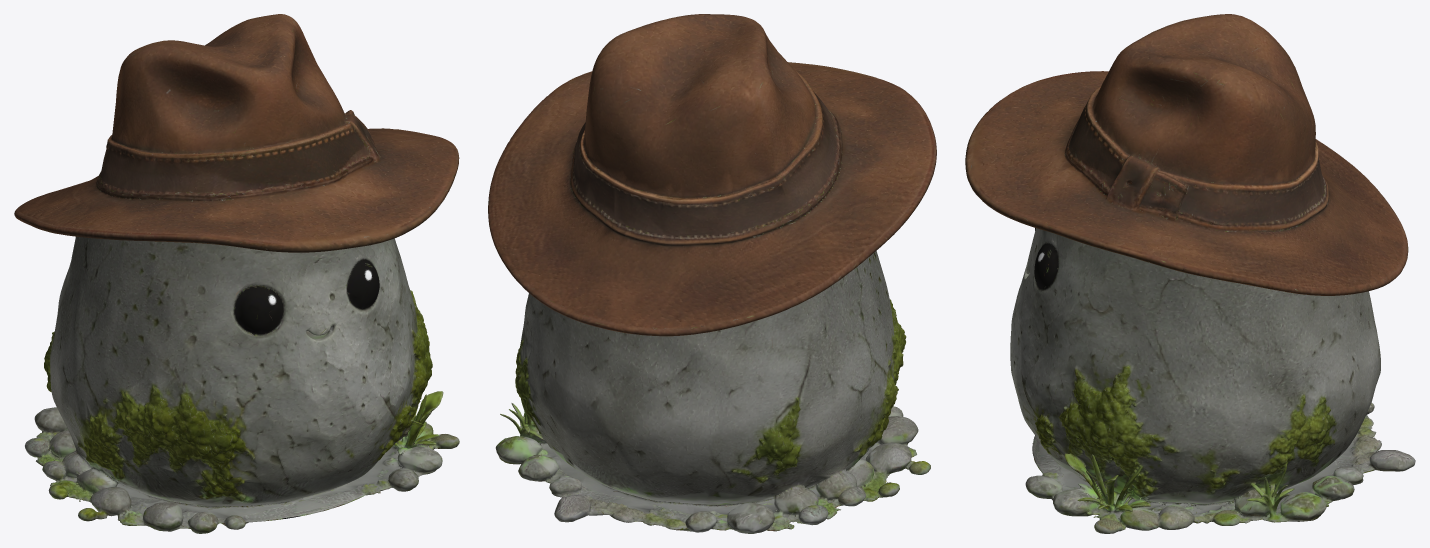
File: pedri.glb
The picture shows the model from 3 angles, left to right: view 1: azimuth 30°, elevation 25°; view 2: azimuth 150°, elevation 25°; view 3: azimuth 270°, elevation 25°; orthographic projection. The views are drawn at different scales.
Parts seen in each view (by area): view 1: Mesh1.0; view 2: Mesh1.0; view 3: Mesh1.0.
Boxes of the visible parts, left/top/right/bottom form: Mesh1.0: left=14, top=14, right=459, bottom=533; Mesh1.0: left=488, top=14, right=936, bottom=533; Mesh1.0: left=965, top=14, right=1415, bottom=533.
Size of the model in its own units: 1.85 by 1.91 by 1.91.
Materials: 1 (1 with a texture image).
